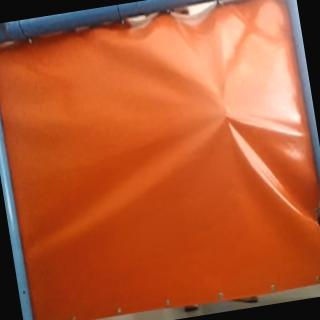Hit-hRxx: (217, 108, 234, 125)
